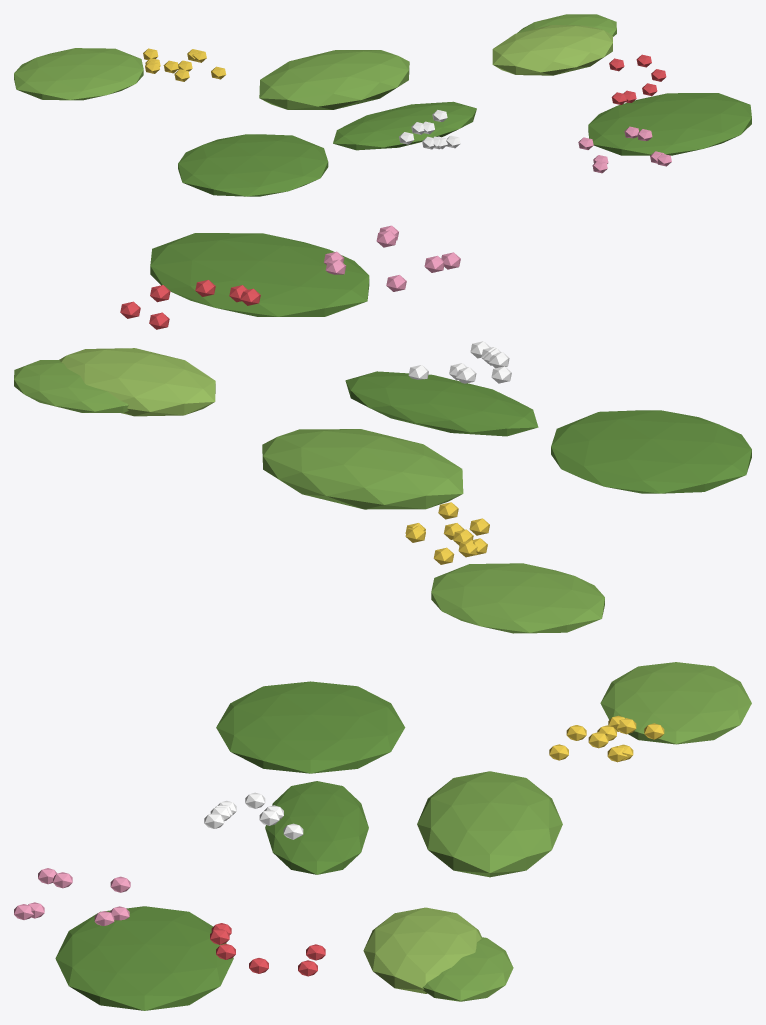
Rendered from Kir_cimen_cicekli_3.fbx.
The picture shows the model from 3 angles, top to bottom: view 1: azimuth 30°, elevation 25°; view 2: azimuth 150°, elevation 25°; view 3: azimuth 270°, elevation 25°; orthographic projection. The views are drawn at different scales.
Parts seen in each view (by area): view 1: Kir_cimen_cicekli_3; view 2: Kir_cimen_cicekli_3; view 3: Kir_cimen_cicekli_3.
Part boxes in pixels (x1,y1,x2,y2): Kir_cimen_cicekli_3: (14,14,751,196); Kir_cimen_cicekli_3: (14,225,751,633); Kir_cimen_cicekli_3: (14,662,751,1010).
Bounding box in the file's own units: 19.8 × 1.15 × 17.72.
